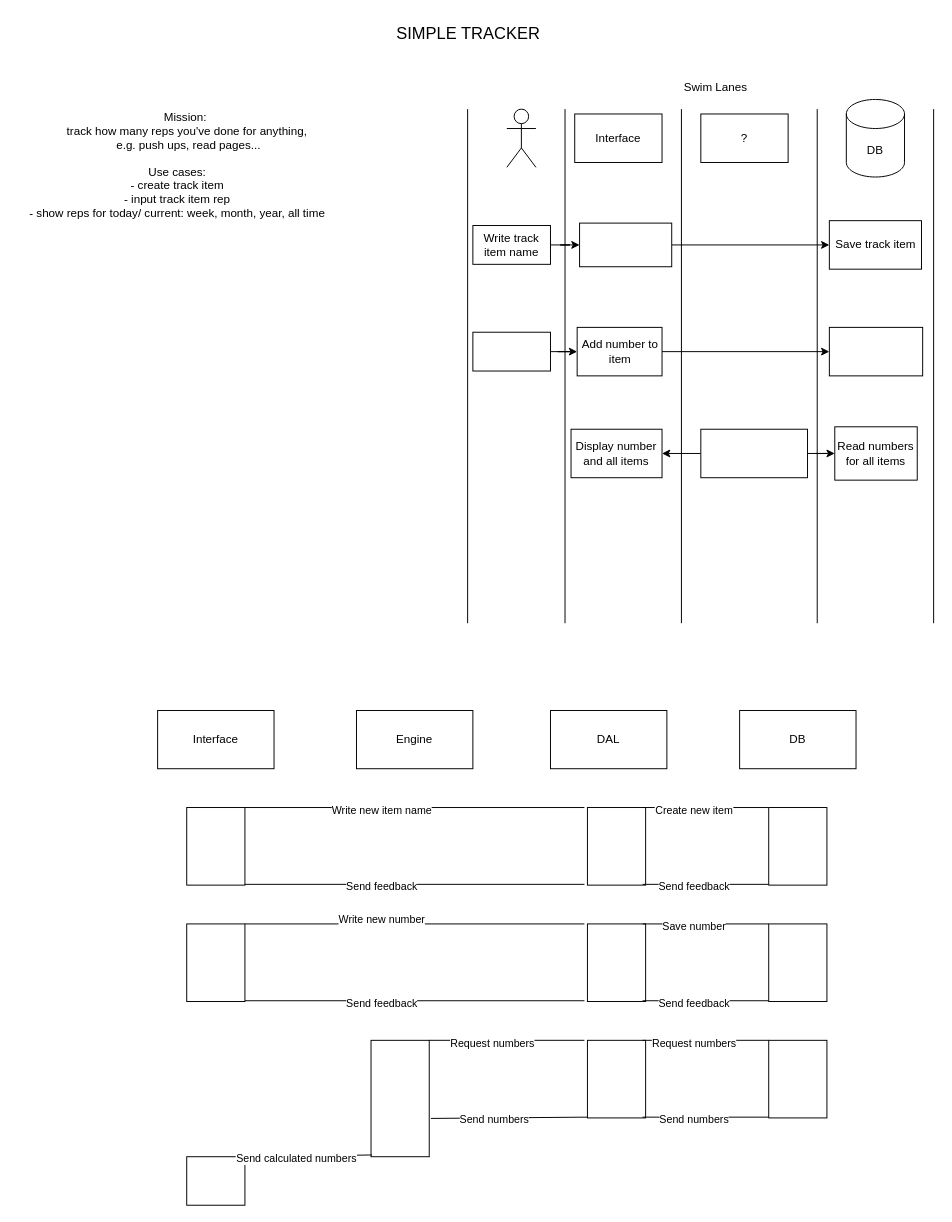
This 952x1222 diagram has some shape labels left out. The centre of each missing label's shape, as x and y in pixels:
"Actor" goes at (x=521, y=137).
"Choose item -> write number" goes at (x=511, y=351).
"Read number for all itmes for each day, week etc" goes at (x=754, y=453).
"Read track item name" goes at (x=625, y=244).
"Save number along the item" goes at (x=875, y=351).
